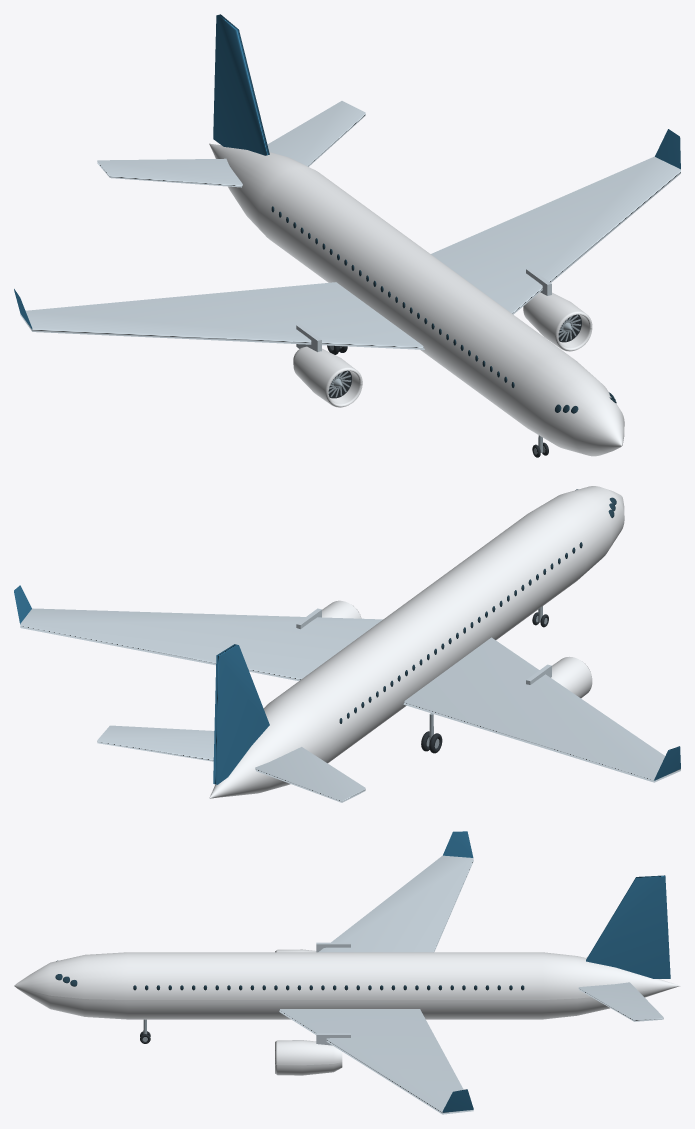
Rendered from twinjet-20000-34b84bf4b1.glb.
3 views of the same model, one above another, from view 1: azimuth 30°, elevation 25°; view 2: azimuth 150°, elevation 25°; view 3: azimuth 270°, elevation 25° (orthographic). The views are drawn at different scales.
Parts seen in each view (by area): view 1: Fuselage_white, WingRight_wing, WingLeft_wing, VerticalTail_blue, HorizontalTailRight_wing, HorizontalTailLeft_wing, EngineRight_white, EngineLeft_white, WingLeft_blue; view 2: Fuselage_white, WingRight_wing, WingLeft_wing, VerticalTail_blue, HorizontalTailRight_wing, HorizontalTailLeft_wing, EngineRight_white, CabinWindows_glass, EngineLeft_white, WingRight_blue; view 3: Fuselage_white, WingLeft_wing, WingRight_wing, VerticalTail_blue, EngineLeft_white, HorizontalTailLeft_wing, CabinWindows_glass, WingRight_blue, WingLeft_blue.
Boxes of the visible parts, bbox=[...] form: Fuselage_white: bbox=[209, 143, 624, 456]; WingRight_wing: bbox=[20, 282, 424, 349]; WingLeft_wing: bbox=[431, 156, 680, 314]; VerticalTail_blue: bbox=[213, 14, 269, 155]; HorizontalTailRight_wing: bbox=[97, 158, 242, 187]; HorizontalTailLeft_wing: bbox=[267, 101, 365, 166]; EngineRight_white: bbox=[293, 346, 362, 407]; EngineLeft_white: bbox=[523, 292, 592, 351]; WingLeft_blue: bbox=[655, 129, 680, 169]; Fuselage_white: bbox=[209, 486, 624, 798]; WingRight_wing: bbox=[403, 637, 680, 782]; WingLeft_wing: bbox=[20, 608, 382, 680]; VerticalTail_blue: bbox=[213, 644, 269, 784]; HorizontalTailRight_wing: bbox=[255, 747, 365, 802]; HorizontalTailLeft_wing: bbox=[97, 725, 214, 761]; EngineRight_white: bbox=[551, 656, 592, 698]; CabinWindows_glass: bbox=[339, 542, 582, 723]; EngineLeft_white: bbox=[322, 600, 361, 618]; WingRight_blue: bbox=[654, 746, 680, 780]; Fuselage_white: bbox=[14, 952, 680, 1019]; WingLeft_wing: bbox=[279, 1009, 473, 1114]; WingRight_wing: bbox=[318, 855, 473, 952]; VerticalTail_blue: bbox=[586, 875, 670, 978]; EngineLeft_white: bbox=[275, 1040, 342, 1075]; HorizontalTailLeft_wing: bbox=[578, 982, 663, 1021]; CabinWindows_glass: bbox=[133, 985, 524, 990]; WingRight_blue: bbox=[443, 831, 473, 857]; WingLeft_blue: bbox=[442, 1089, 473, 1112].
Bounding box in the file's own units: 35.6 × 10.6 × 38.6.
